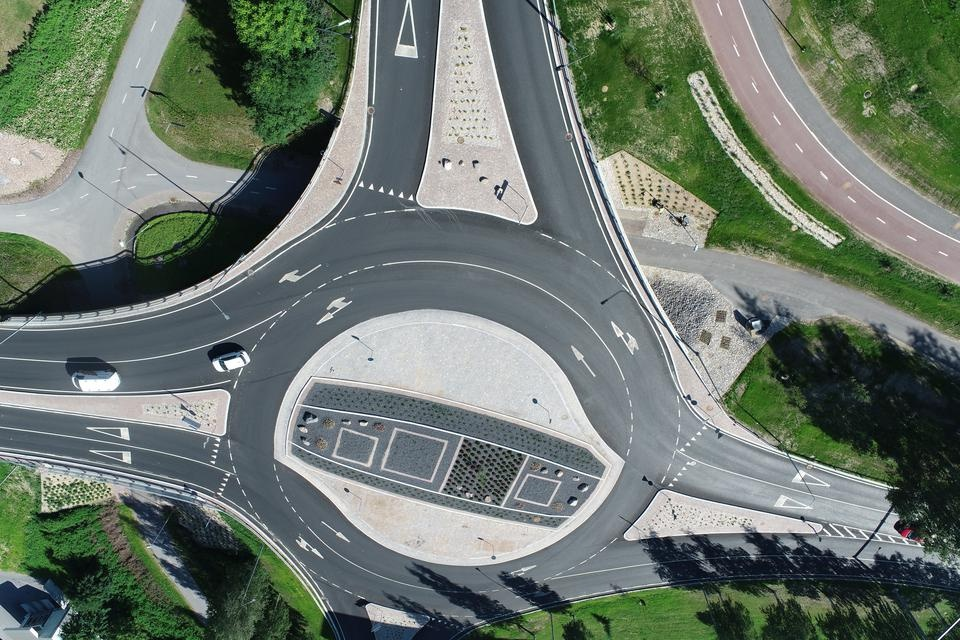roundabout: (169, 101, 708, 640)
